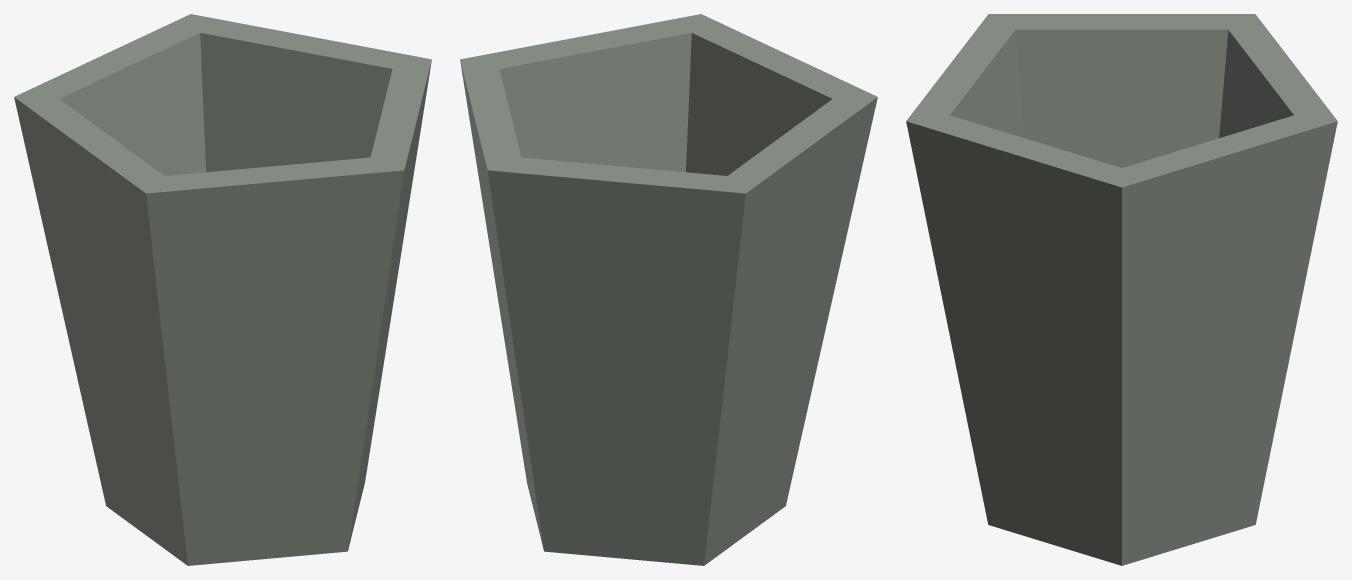
Rendered from cup_empty_2.fbx.
3 renders of one model, left to right at view 1: azimuth 30°, elevation 25°; view 2: azimuth 150°, elevation 25°; view 3: azimuth 270°, elevation 25°, orthographic.
Parts seen in each view (by area): view 1: cup_empty_2; view 2: cup_empty_2; view 3: cup_empty_2.
Part boxes in pixels (box(x1,y1,x2,y2)): cup_empty_2: box(14, 14, 431, 565); cup_empty_2: box(460, 14, 877, 565); cup_empty_2: box(906, 14, 1337, 565).
Bounding box in the file's own units: 0.6046 × 0.6685 × 0.6358.
